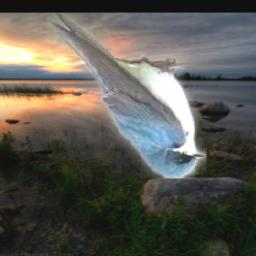Swallow: (47, 14, 207, 179)
